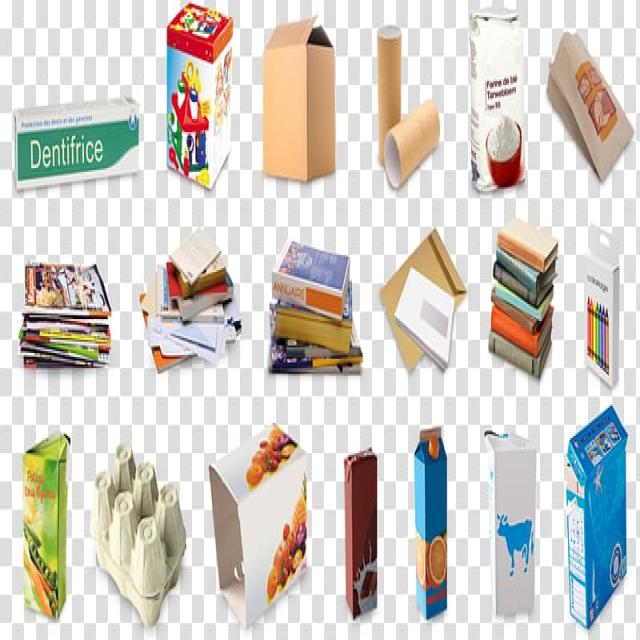cardboard: (220, 450, 306, 614), (102, 470, 172, 608), (267, 40, 333, 179), (489, 438, 536, 623), (420, 448, 451, 616), (348, 457, 378, 606)
paper: (276, 260, 356, 376), (27, 268, 100, 374), (156, 249, 219, 363)
